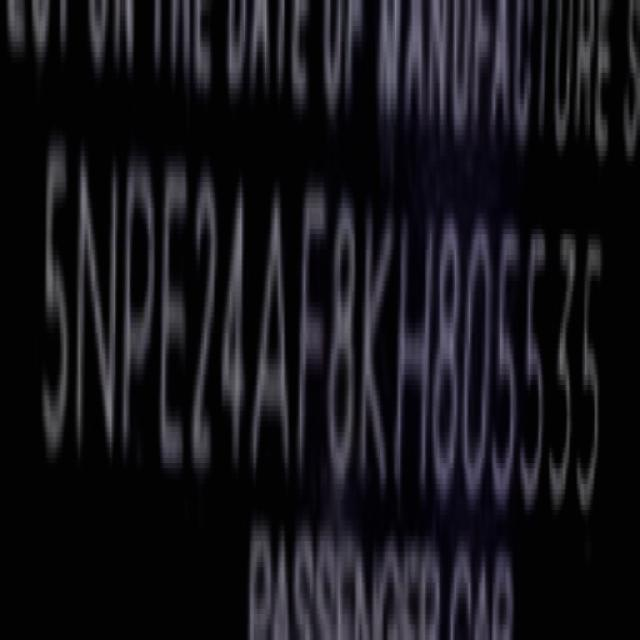0: (461, 210, 492, 518)
2: (190, 160, 218, 482)
3: (548, 224, 578, 520)
4: (219, 175, 248, 472)
5: (43, 139, 72, 478), (491, 218, 521, 522), (520, 214, 548, 528), (576, 229, 604, 516)
8: (326, 196, 356, 492), (432, 214, 462, 507)
A: (250, 181, 292, 476)
E: (159, 145, 189, 488)
F: (294, 187, 326, 491)
H: (393, 202, 432, 498)
K: (360, 201, 393, 494)
N: (75, 152, 119, 472)
P: (121, 156, 158, 472)
